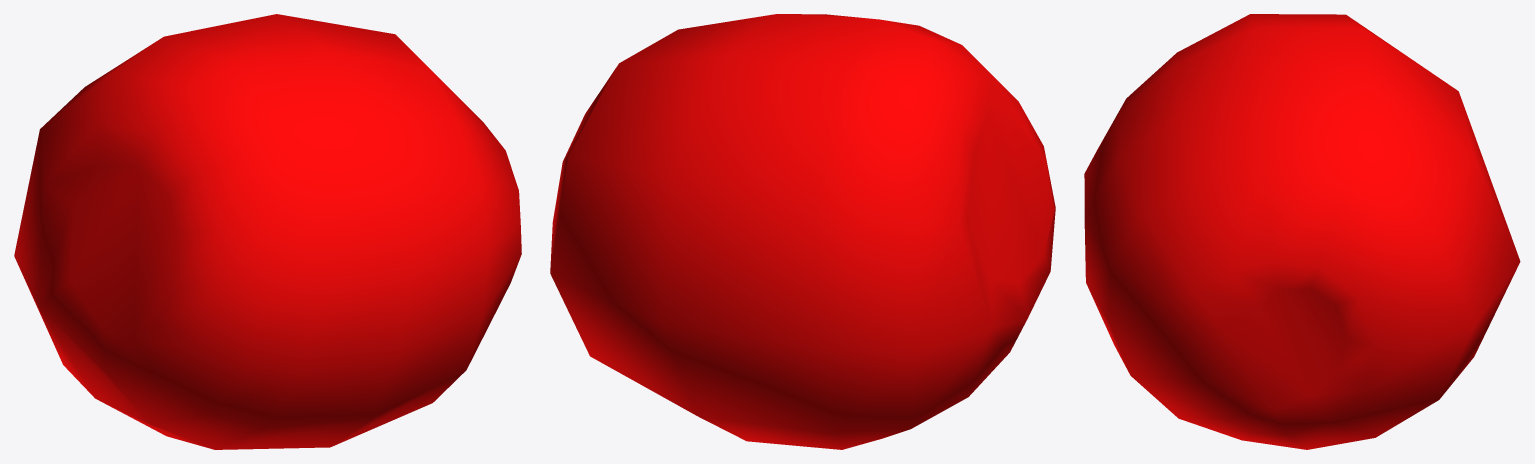
The model's file is apples1_coll.FBX.
The picture shows the model from 3 angles, left to right: view 1: azimuth 30°, elevation 25°; view 2: azimuth 150°, elevation 25°; view 3: azimuth 270°, elevation 25°; orthographic projection. The views are drawn at different scales.
Parts seen in each view (by area): view 1: apple1_coll; view 2: apple1_coll; view 3: apple1_coll.
Boxes of the visible parts, x1,y1,x2,y2 form: apple1_coll: [14, 14, 521, 449]; apple1_coll: [550, 14, 1055, 449]; apple1_coll: [1084, 14, 1520, 449].
Bounding box in the file's own units: 59.88 × 53.7 × 58.41.
